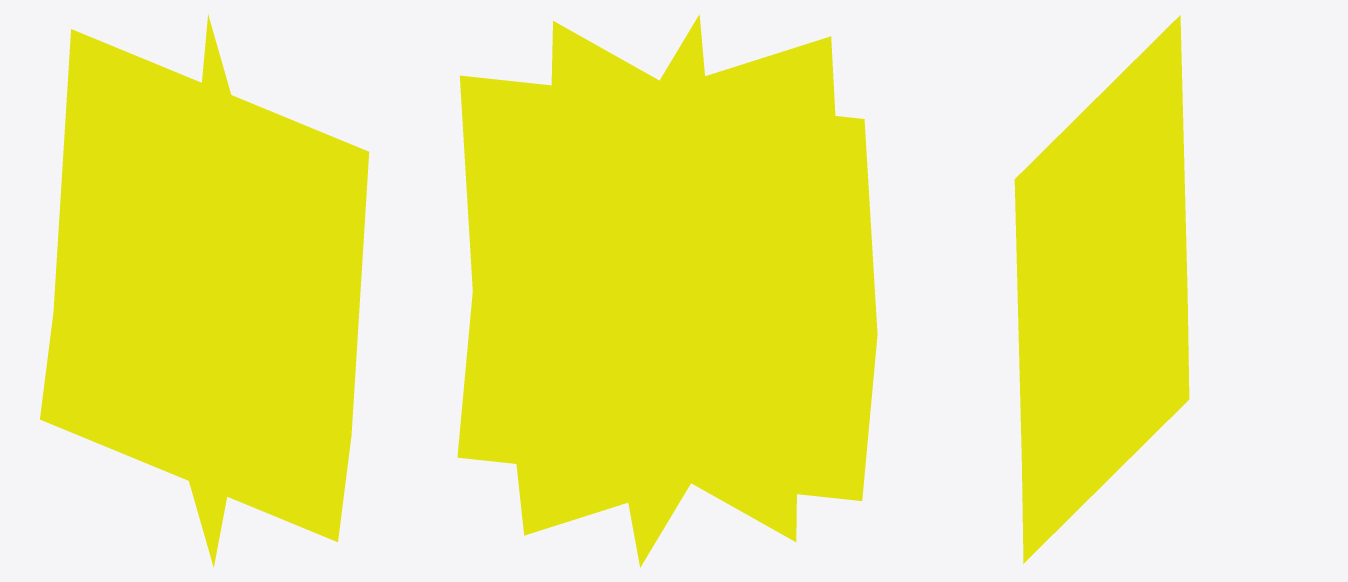
File: Foliage_Trees_Tree_1_Tree1_Low.glb
3 views of the same model, side by side, from view 1: azimuth 30°, elevation 25°; view 2: azimuth 150°, elevation 25°; view 3: azimuth 270°, elevation 25° (orthographic).
Visible parts, largest first — view 1: Oak1LowestLOD; view 2: Oak1LowestLOD; view 3: Oak1LowestLOD.
Boxes of the visible parts, left/top/right/bottom form: Oak1LowestLOD: left=40, top=14, right=369, bottom=567; Oak1LowestLOD: left=457, top=14, right=877, bottom=567; Oak1LowestLOD: left=1014, top=15, right=1189, bottom=563.
Size of the model in its own units: 8.04 by 8.08 by 8.18.
Materials: 2 (2 with a texture image).
